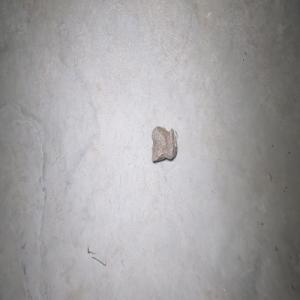Rock: (151, 123, 177, 162)
